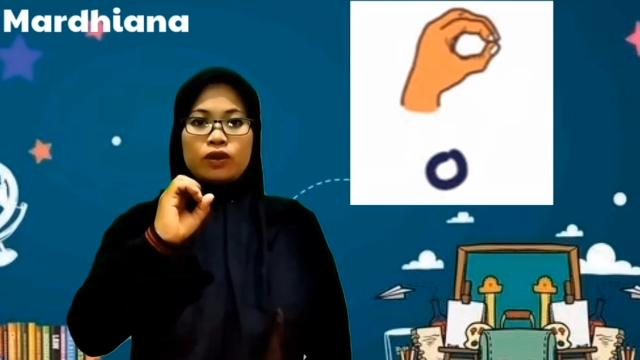O: (153, 170, 215, 245)
